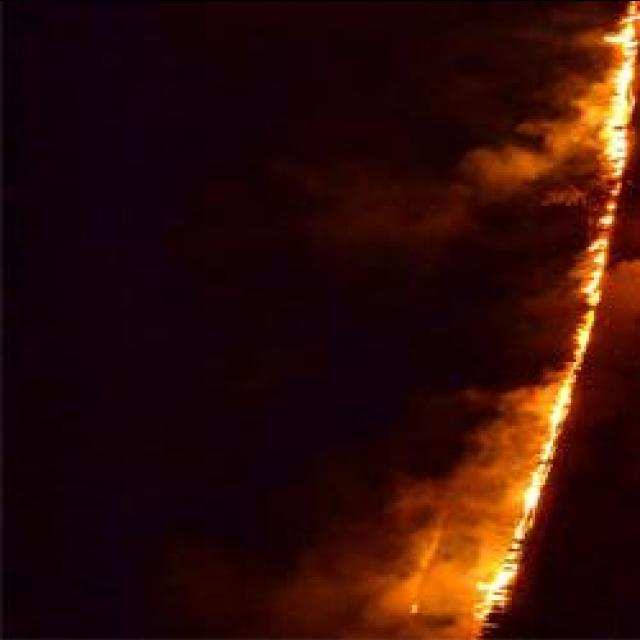fire: (470, 467, 548, 623), (595, 13, 638, 181), (566, 237, 608, 361), (534, 347, 575, 473)
smoke: (324, 534, 474, 631), (465, 115, 601, 206), (411, 464, 513, 516), (500, 389, 538, 457)
